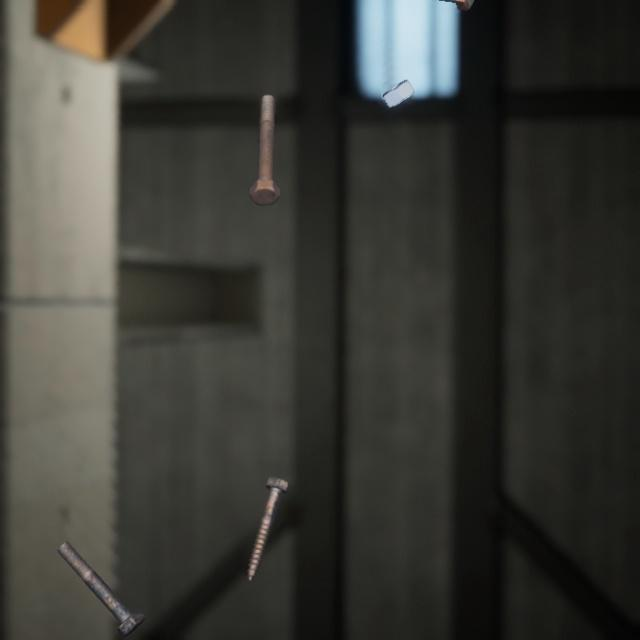bolt: (52, 514, 149, 618), (242, 450, 293, 562), (245, 76, 284, 195)
nut: (377, 64, 419, 101)
